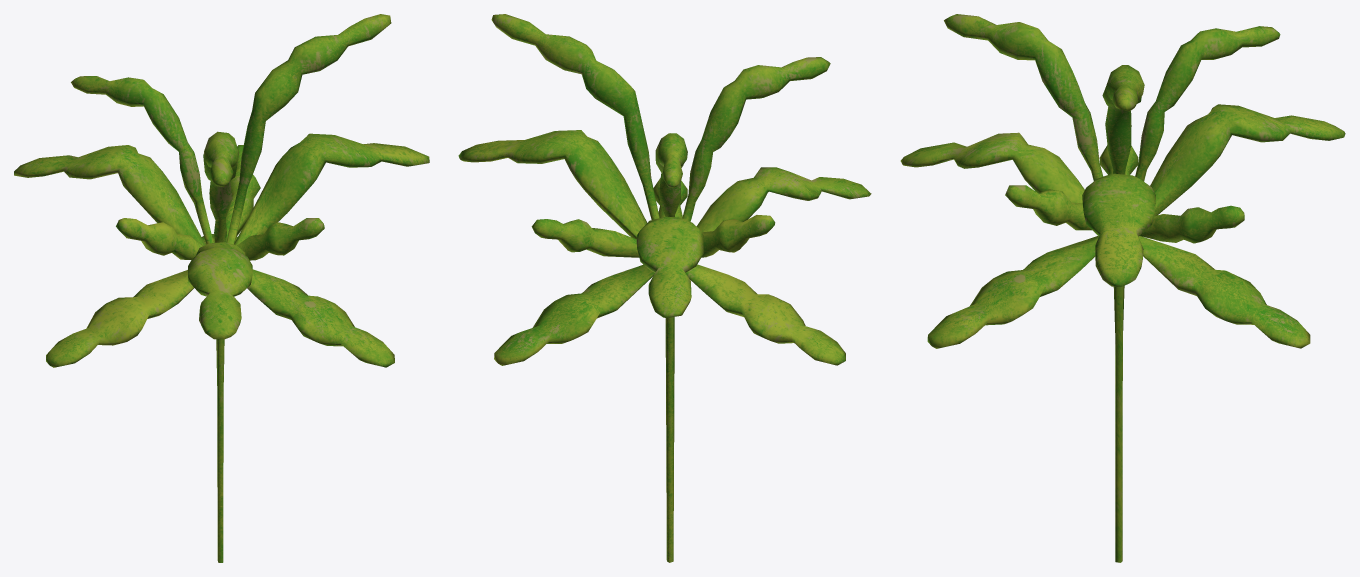
Rendered from PlantPotatoL.fbx.
3 views of the same model, side by side, from view 1: azimuth 30°, elevation 25°; view 2: azimuth 150°, elevation 25°; view 3: azimuth 270°, elevation 25° (orthographic). The views are drawn at different scales.
Visible parts, largest first — view 1: PlantPotatoL; view 2: PlantPotatoL; view 3: PlantPotatoL.
Part boxes in pixels (left/top/right/bottom): PlantPotatoL: left=14, top=14, right=429, bottom=562; PlantPotatoL: left=458, top=14, right=871, bottom=562; PlantPotatoL: left=900, top=14, right=1345, bottom=562.
Size of the model in its own units: 27.01 by 34.17 by 24.92.
